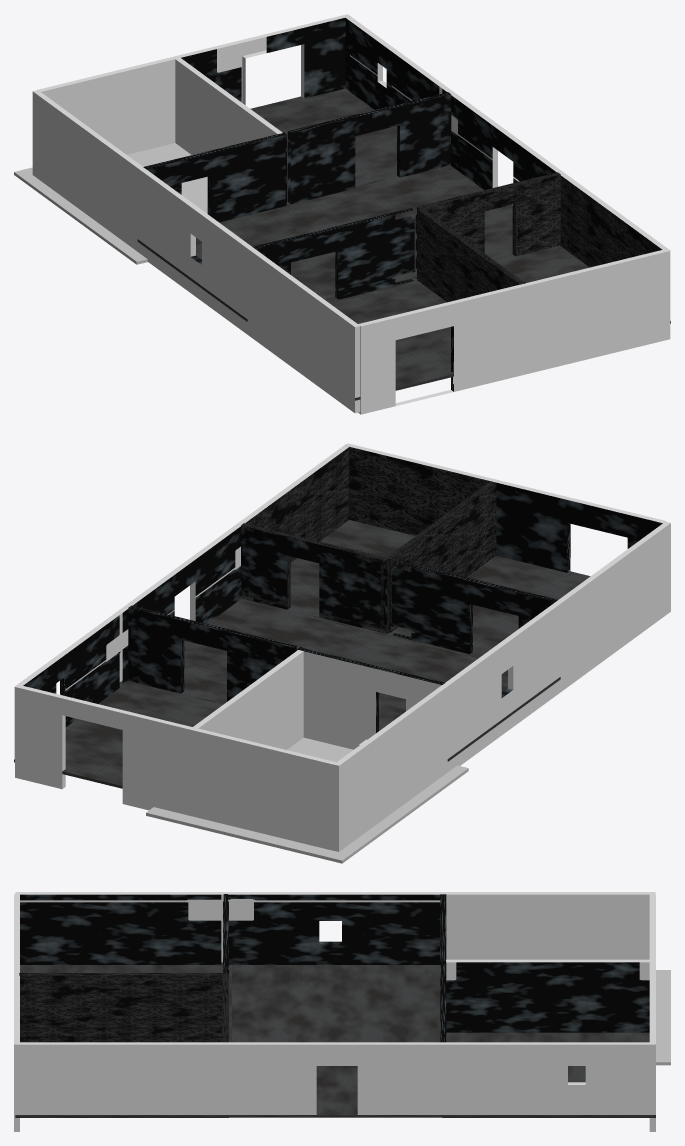
Rendered from House.fbx.
The picture shows the model from 3 angles, top to bottom: view 1: azimuth 30°, elevation 25°; view 2: azimuth 150°, elevation 25°; view 3: azimuth 270°, elevation 25°; orthographic projection. The views are drawn at different scales.
Parts seen in each view (by area): view 1: Cube.017, Cube.006, Cube.008, Cube.013, Cube.004, Cube.012, Cube.020, Cube.015, Cube.011, Cube.021, Cube.022, Cube.023 (+2 smaller); view 2: Cube.017, Cube.013, Cube.008, Cube.006, Cube.004, Cube.021, Cube.015, Cube.020, Cube.012, Cube.011, Cube.005, Cube.023 (+2 smaller); view 3: Cube.008, Cube.017, Cube.004, Cube.022, Cube.023, Cube.005, Cube.015, Cube.024, Cube.013, Cube.006, Cube.012, Cube.021 (+2 smaller).
Part boxes in pixels (bbox=[...]): Cube.017: bbox=[32, 90, 360, 413]; Cube.006: bbox=[358, 248, 670, 414]; Cube.008: bbox=[345, 14, 670, 267]; Cube.013: bbox=[38, 14, 349, 154]; Cube.004: bbox=[137, 165, 512, 321]; Cube.012: bbox=[282, 92, 451, 205]; Cube.020: bbox=[253, 207, 419, 299]; Cube.015: bbox=[326, 245, 670, 400]; Cube.011: bbox=[143, 133, 285, 222]; Cube.021: bbox=[417, 172, 560, 277]; Cube.022: bbox=[175, 58, 282, 154]; Cube.023: bbox=[417, 208, 525, 302]; Cube.017: bbox=[333, 521, 670, 851]; Cube.013: bbox=[15, 684, 336, 850]; Cube.008: bbox=[14, 444, 349, 759]; Cube.006: bbox=[345, 443, 666, 572]; Cube.004: bbox=[129, 599, 560, 761]; Cube.021: bbox=[241, 523, 388, 633]; Cube.015: bbox=[242, 520, 590, 656]; Cube.020: bbox=[385, 558, 557, 654]; Cube.012: bbox=[128, 605, 301, 701]; Cube.011: bbox=[299, 648, 444, 749]; Cube.005: bbox=[14, 680, 222, 788]; Cube.023: bbox=[385, 481, 496, 632]; Cube.008: bbox=[15, 1042, 655, 1114]; Cube.017: bbox=[15, 892, 655, 964]; Cube.004: bbox=[229, 965, 445, 1117]; Cube.022: bbox=[446, 959, 649, 1032]; Cube.023: bbox=[19, 973, 223, 1042]; Cube.005: bbox=[442, 1032, 655, 1117]; Cube.015: bbox=[15, 962, 228, 1117]; Cube.024: bbox=[656, 970, 670, 1065]; Cube.013: bbox=[649, 894, 655, 1131]; Cube.006: bbox=[14, 894, 19, 1131]; Cube.012: bbox=[440, 961, 446, 1042]; Cube.021: bbox=[222, 973, 228, 1042].
Size of the model in its own units: 1950 by 507 by 3421.
